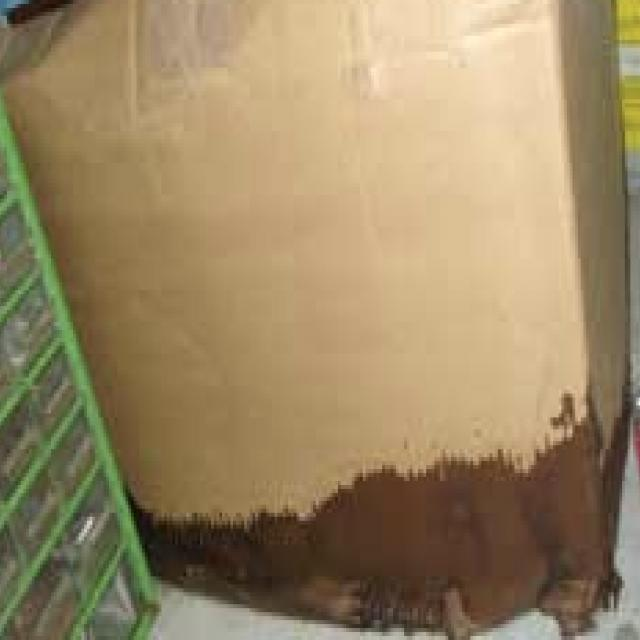wet: (128, 439, 640, 639)
